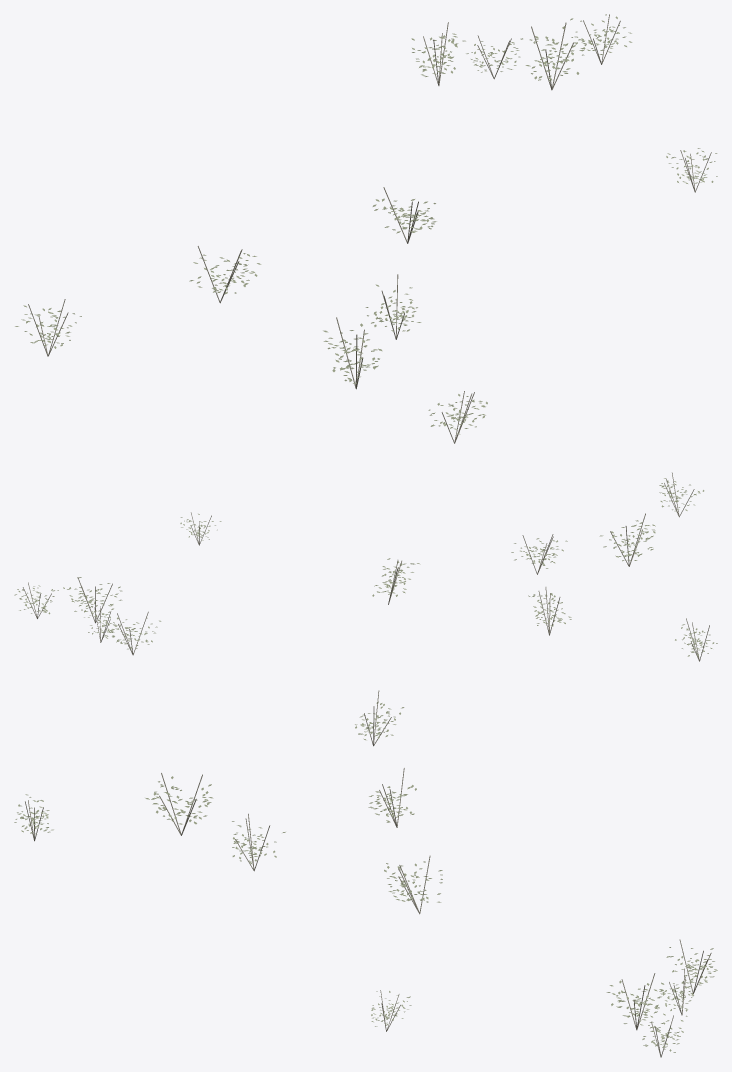
The model's file is AE_Shrubs_-2_1.fbx.
3 views of the same model, one above another, from view 1: azimuth 30°, elevation 25°; view 2: azimuth 150°, elevation 25°; view 3: azimuth 270°, elevation 25° (orthographic). The views are drawn at different scales.
Visible parts, largest first — view 1: AE_Shrubs_-2_1_LOD0; view 2: AE_Shrubs_-2_1_LOD0; view 3: AE_Shrubs_-2_1_LOD0.
Part boxes in pixels (x1,y1,x2,y2): AE_Shrubs_-2_1_LOD0: (15,14,717,443); AE_Shrubs_-2_1_LOD0: (14,472,717,661); AE_Shrubs_-2_1_LOD0: (14,690,717,1057).
Size of what is drawn, in the model's own units: 2491 by 203 by 2211.
